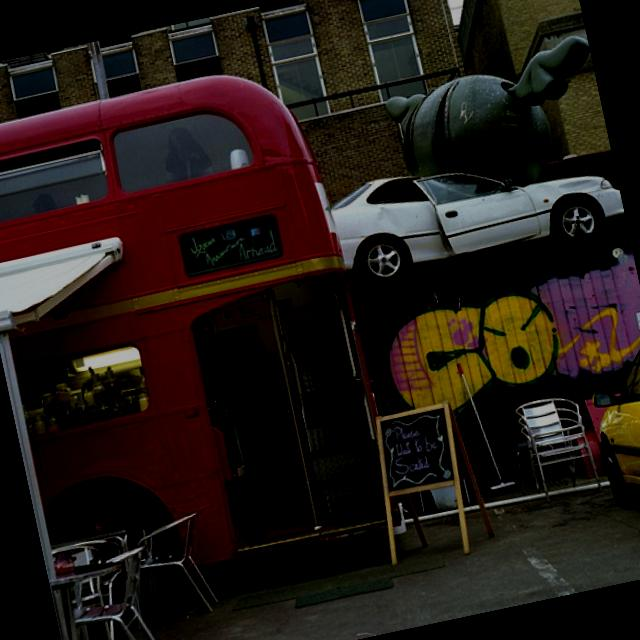Vehicle: (0, 59, 405, 603), (326, 125, 626, 284), (574, 325, 640, 568)
